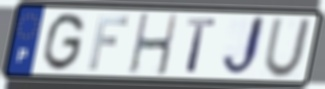F: (86, 14, 131, 72)
G: (40, 11, 87, 73)
H: (127, 12, 180, 78)
J: (219, 14, 268, 80)
T: (185, 16, 218, 75)
U: (262, 17, 314, 80)
